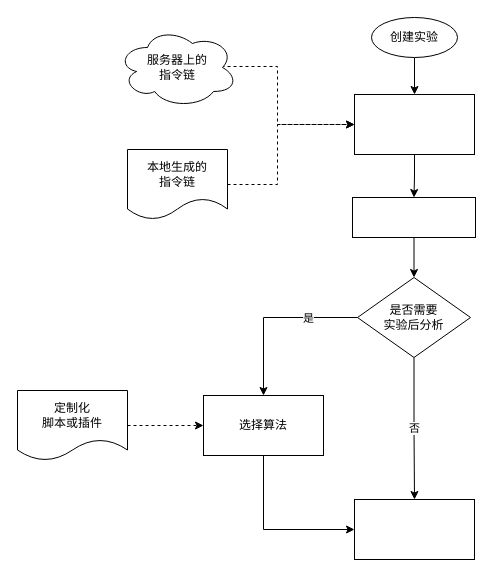
Some shapes in this 493 by 577 pixel diagram are drawn without their labels. The box of each missing label's shape, as (x1, y1, x2, y2) in pixels:
一个或多个指令链: (354, 94, 474, 154)
执行: (354, 498, 474, 560)
调整执行序列: (352, 196, 476, 238)
